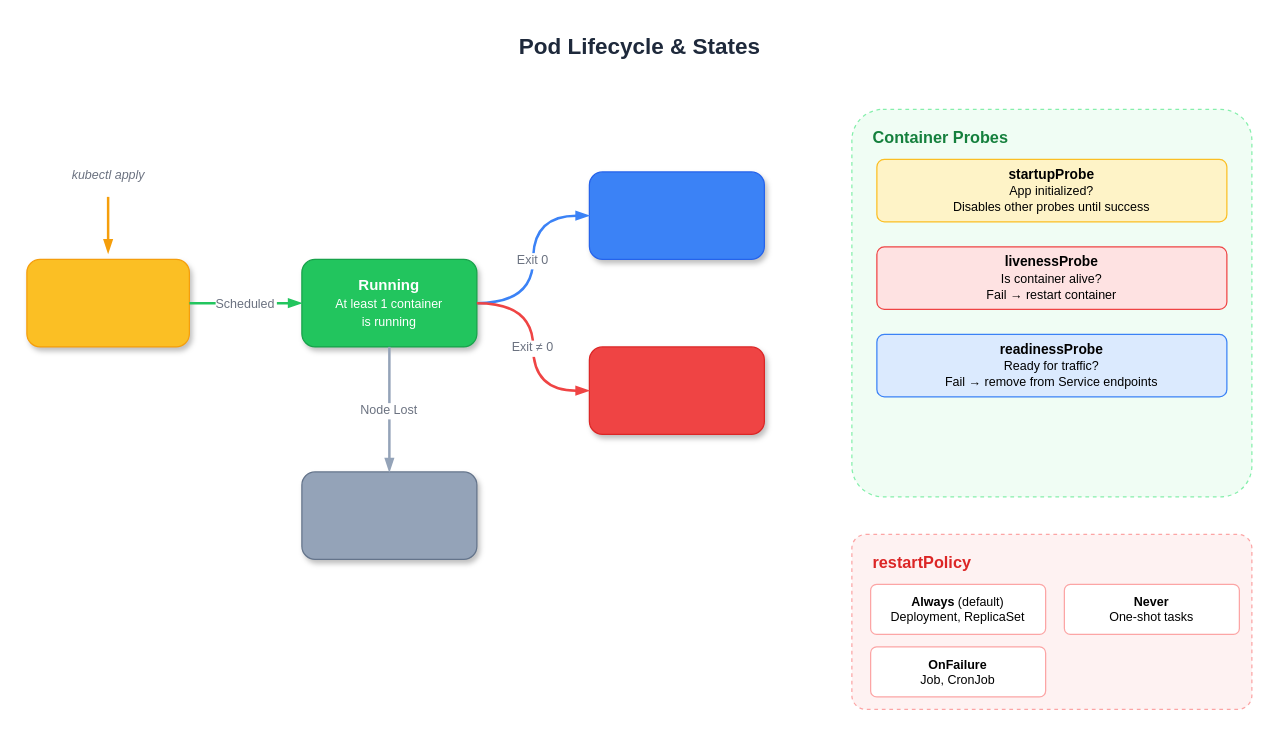
This 1274x731 diagram has some shape labels left out. Here are the shapes that lost their labels. From the top down, the centre of each, then its label:
the point at 677,217: Succeeded All containers exited (0)
the point at 109,304: Pending Scheduling Image Pull
the point at 677,392: Failed Container exited with error
the point at 390,517: Unknown Node communication lost
